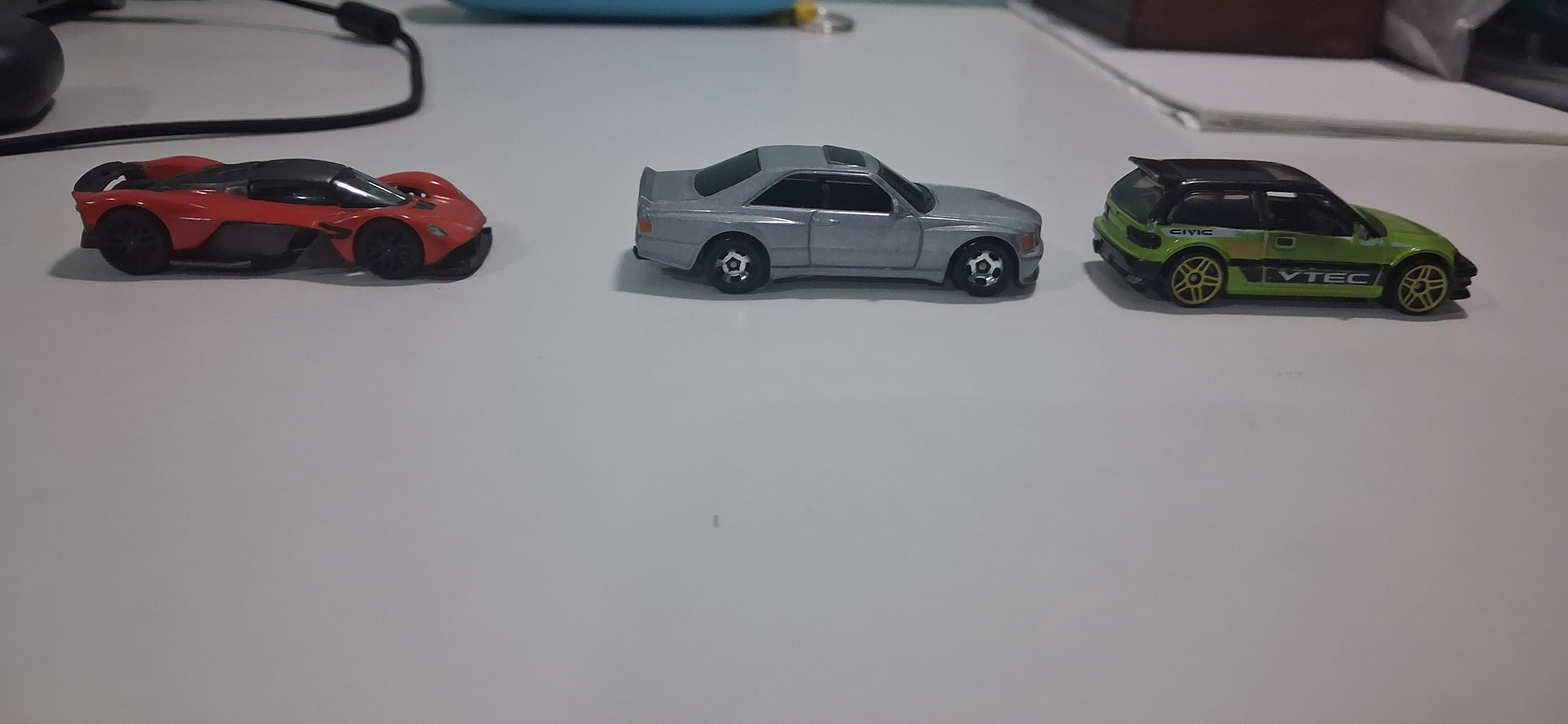Aston_Martin_Valkyrie: (47, 114, 529, 302)
Honda_Civic: (1084, 129, 1496, 325)
Mercedes_Benz_560_SEC_AMG: (605, 130, 1062, 319)
